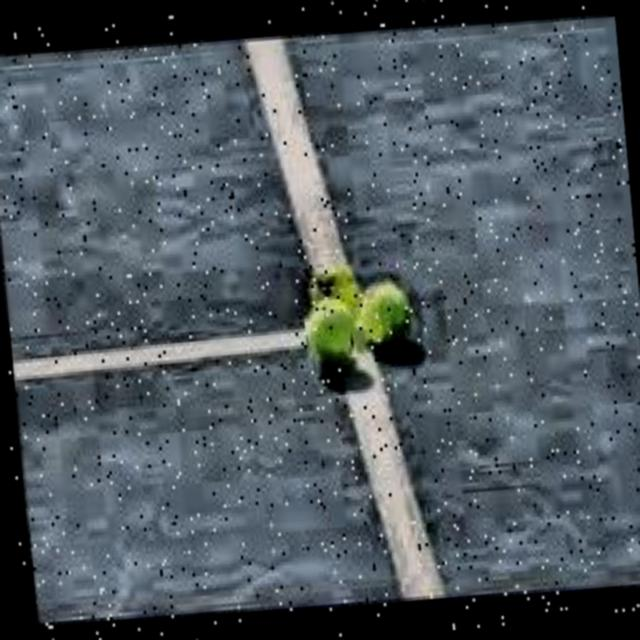tennis-ball: (299, 308, 357, 378), (300, 268, 358, 328), (358, 285, 404, 348)
